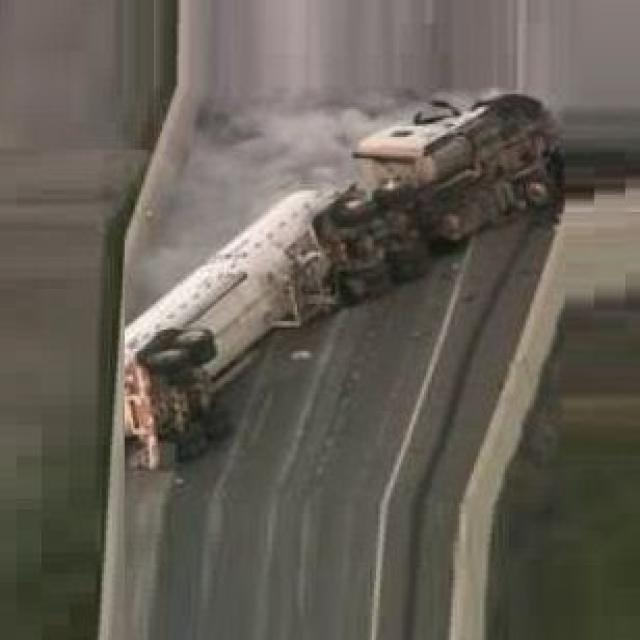traffic_incident: (104, 64, 563, 426)
